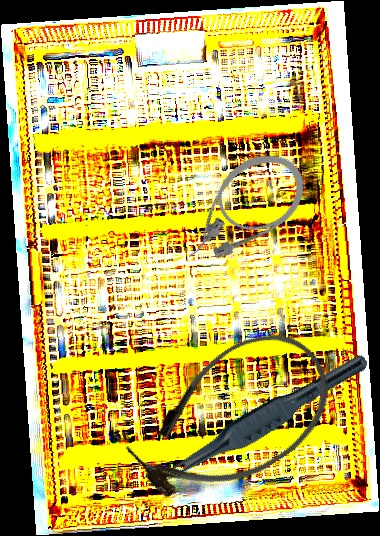Cannula: (109, 309, 354, 528), (162, 139, 319, 277)
Tissue Forceps: (155, 341, 371, 496)
